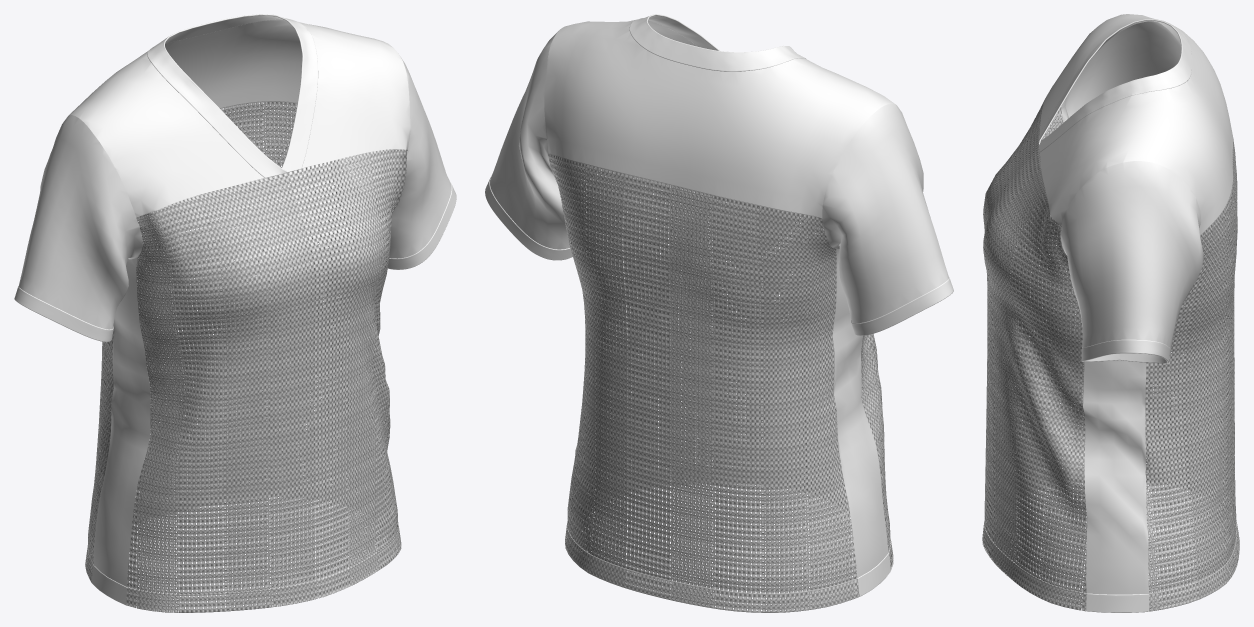
The picture shows the model from 3 angles, left to right: view 1: azimuth 30°, elevation 25°; view 2: azimuth 150°, elevation 25°; view 3: azimuth 270°, elevation 25°; orthographic projection. The views are drawn at different scales.
Parts seen in each view (by area): view 1: FJ50_v9.001; view 2: FJ50_v9.001; view 3: FJ50_v9.001.
Boxes of the visible parts, x1,y1,x2,y2 form: FJ50_v9.001: (14, 14, 456, 612); FJ50_v9.001: (485, 14, 953, 612); FJ50_v9.001: (982, 14, 1239, 612).
Size of the model in its own units: 1.05 by 1.18 by 0.5474.
5 materials, 4 textured.
